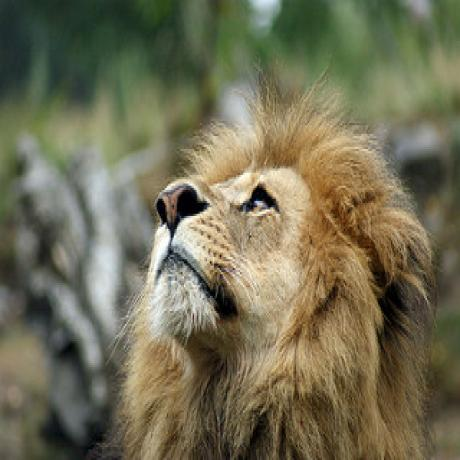Lion: (116, 85, 436, 460)
